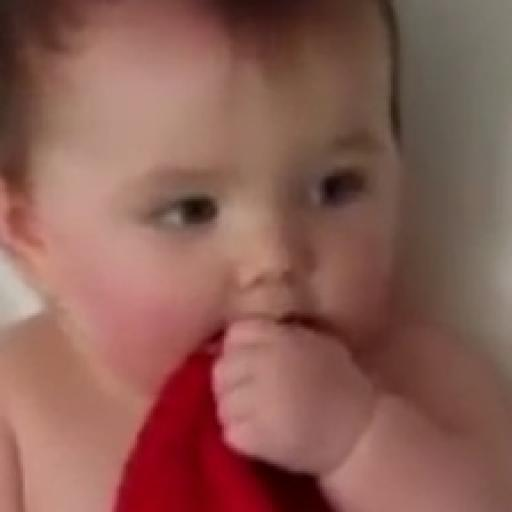Autism: (14, 7, 418, 348)
